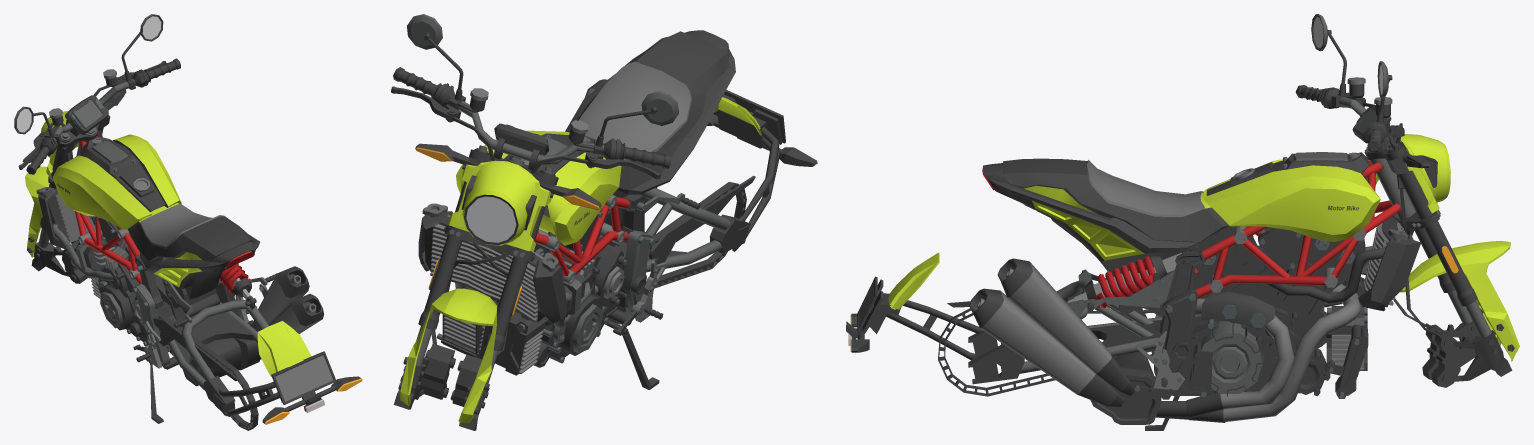
File: body.glb
3 renders of one model, left to right at view 1: azimuth 30°, elevation 25°; view 2: azimuth 150°, elevation 25°; view 3: azimuth 270°, elevation 25°, orthographic. The views are drawn at different scales.
Parts seen in each view (by area): view 1: Body 003_Textures_0, Body 003_black_m_0; view 2: Body 003_Textures_0, Body 003_black_m_0; view 3: Body 003_Textures_0, Body 003_black_m_0.
Boxes of the visible parts, box(x1,y1,x2,y2) form: Body 003_Textures_0: box(14, 14, 362, 430); Body 003_black_m_0: box(25, 111, 311, 376); Body 003_Textures_0: box(391, 14, 817, 430); Body 003_black_m_0: box(400, 97, 761, 422); Body 003_Textures_0: box(846, 14, 1514, 430); Body 003_black_m_0: box(888, 134, 1519, 361).
Size of the model in its own units: 0.5263 by 0.8577 by 1.25.
2 materials, 1 textured.
